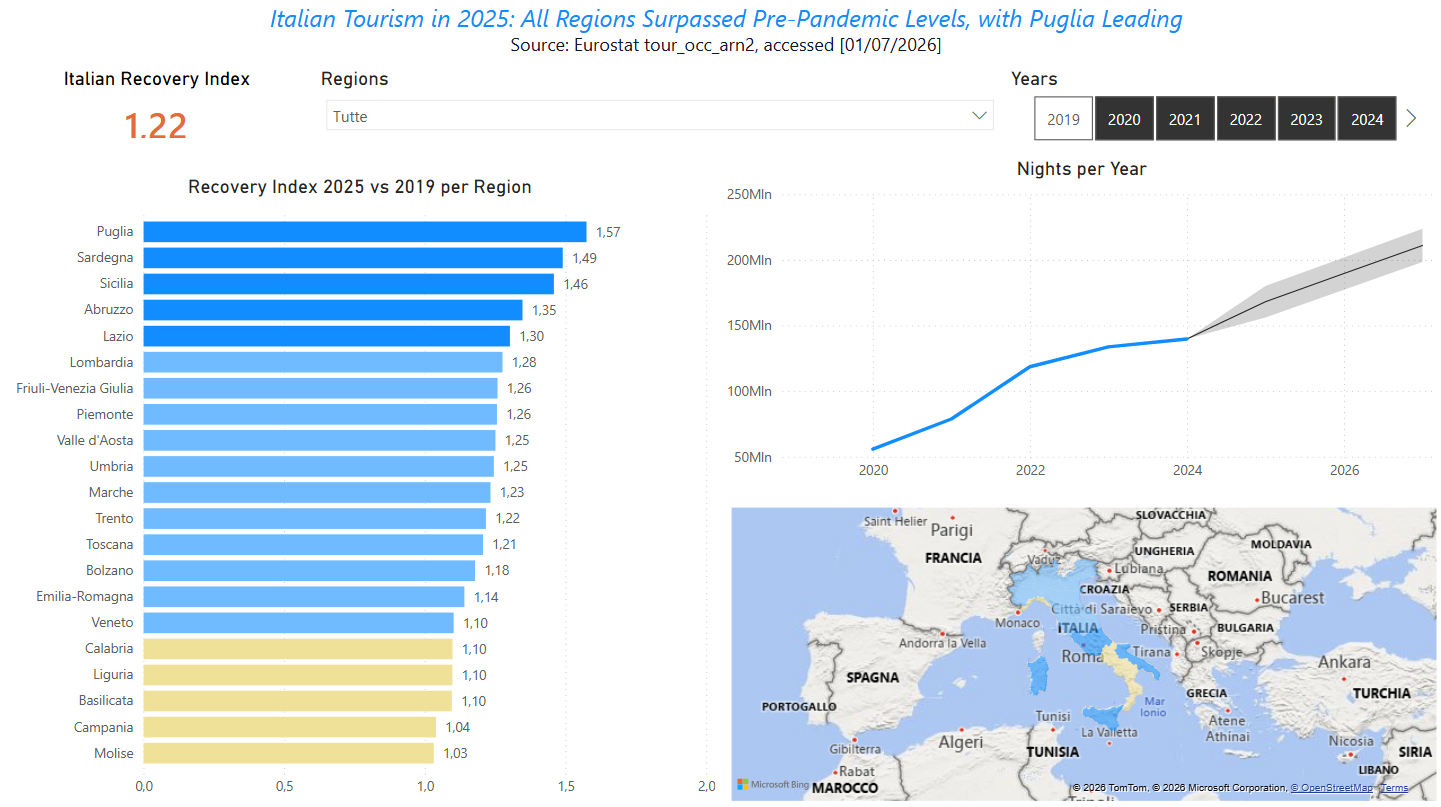

What the dashboard file says about the page in this screenshot:
{"tool":"powerbi","page":{"name":"Main","canvas":[1280,720],"ordinal":0},"visuals":[{"type":"textbox","box":[9.8,0,1270.2,84.5],"z":0},{"type":"clusteredBarChart","title":"Recovery Index 2025 vs 2019 per Region","fields":{"Category":["fct_yearly_nights.region_name"],"Y":["fct_yearly_nights.Recovery_Index"]},"box":[0,159.5,640,560.2],"z":1000},{"type":"lineChart","title":"Nights per Year","fields":{"Category":["fct_yearly_nights.year"],"Y":["Sum(fct_yearly_nights.nights)"]},"box":[640,144,640,295.7],"z":2000},{"type":"filledMap","fields":{"Category":["dim_region.region_name"]},"box":[644.9,449.4,635.1,270.4],"z":3000},{"type":"slicer","title":"Regions","fields":{"Values":["dim_region.region_name"]},"box":[280.2,63.8,487.7,80.7],"z":4000},{"type":"slicer","title":"Years","fields":{"Values":["fct_yearly_nights.year"]},"box":[783.8,63.8,479.7,71.8],"z":5000},{"type":"cardVisual","title":"Italian Recovery Index","fields":{"Data":["fct_yearly_nights.Italy Recovery Index (Fixed)"]},"box":[0,63.8,280.2,80.7],"z":6000}]}

Visuals, with their boxes in screenshot pixels (x1, y1, x2, y2), scaled from the page's 1280x720 canvas onto the 1441x807 screenshot:
textbox: bbox=[11, 0, 1440, 95]
"Recovery Index 2025 vs 2019 per Region" clusteredBarChart: bbox=[0, 179, 720, 806]
"Nights per Year" lineChart: bbox=[720, 161, 1440, 493]
filledMap - dim_region.region_name: bbox=[726, 504, 1440, 806]
"Regions" slicer: bbox=[315, 72, 864, 162]
"Years" slicer: bbox=[882, 72, 1422, 152]
"Italian Recovery Index" cardVisual: bbox=[0, 72, 315, 162]
